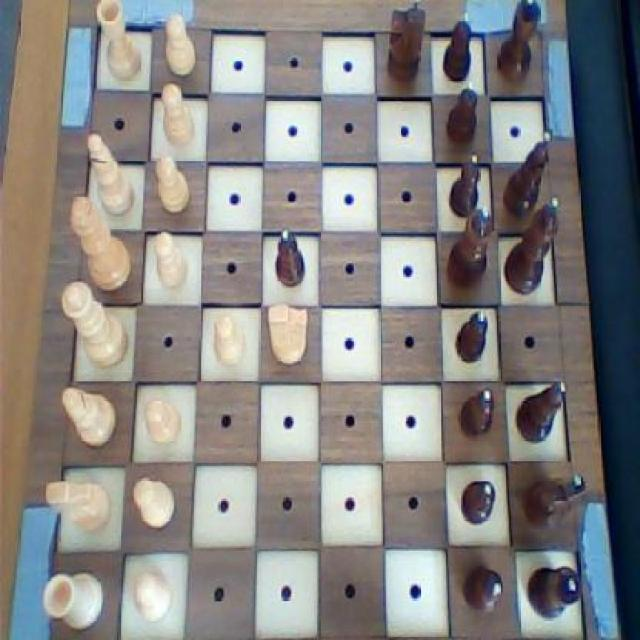bishop: (500, 128, 555, 222), (512, 374, 571, 450)
black-bishop: (503, 192, 565, 301)
black-king: (515, 463, 590, 539), (380, 0, 428, 88)
black-knight: (458, 557, 508, 621), (442, 78, 484, 151), (445, 146, 486, 219), (438, 8, 474, 83), (457, 475, 501, 534), (272, 223, 308, 292), (452, 306, 492, 366), (456, 385, 500, 439)
black-pawn: (444, 203, 498, 295)
black-queen: (492, 0, 546, 89), (520, 558, 588, 628)
black-rook: (83, 128, 139, 220), (59, 378, 122, 454)
white-bishop: (64, 194, 136, 294)
white-king: (38, 472, 114, 544), (265, 302, 313, 373)
white-knight: (126, 471, 182, 535), (205, 300, 249, 377), (157, 77, 201, 153), (126, 564, 175, 628), (146, 226, 191, 295), (158, 8, 198, 82), (138, 390, 184, 452), (151, 154, 194, 219)
white-pawn: (57, 278, 134, 372)
white-queen: (94, 0, 148, 85), (36, 568, 106, 632)
